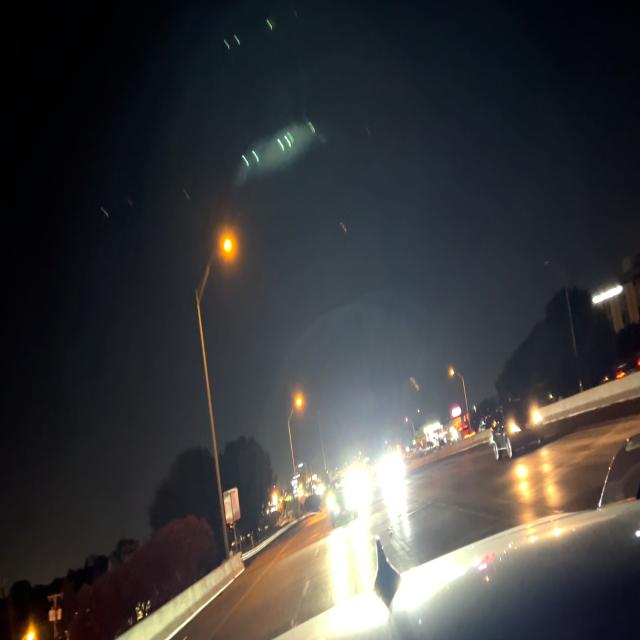back-of-sign: (222, 491, 243, 526)
